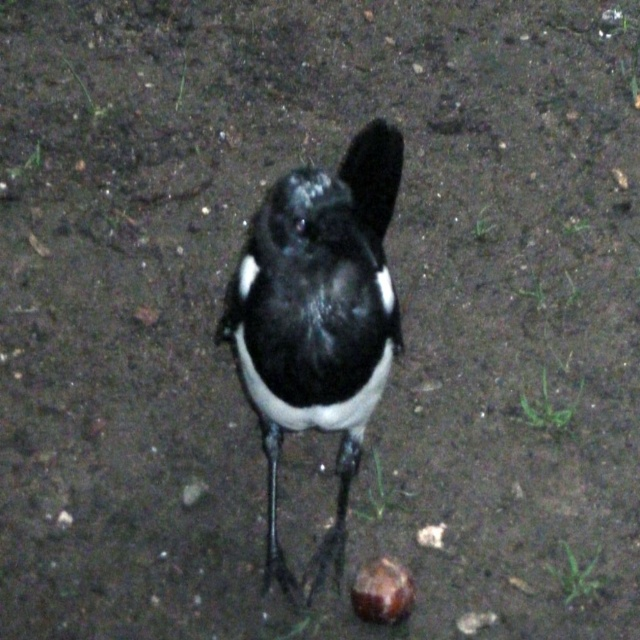Magpie: (215, 119, 405, 608)
